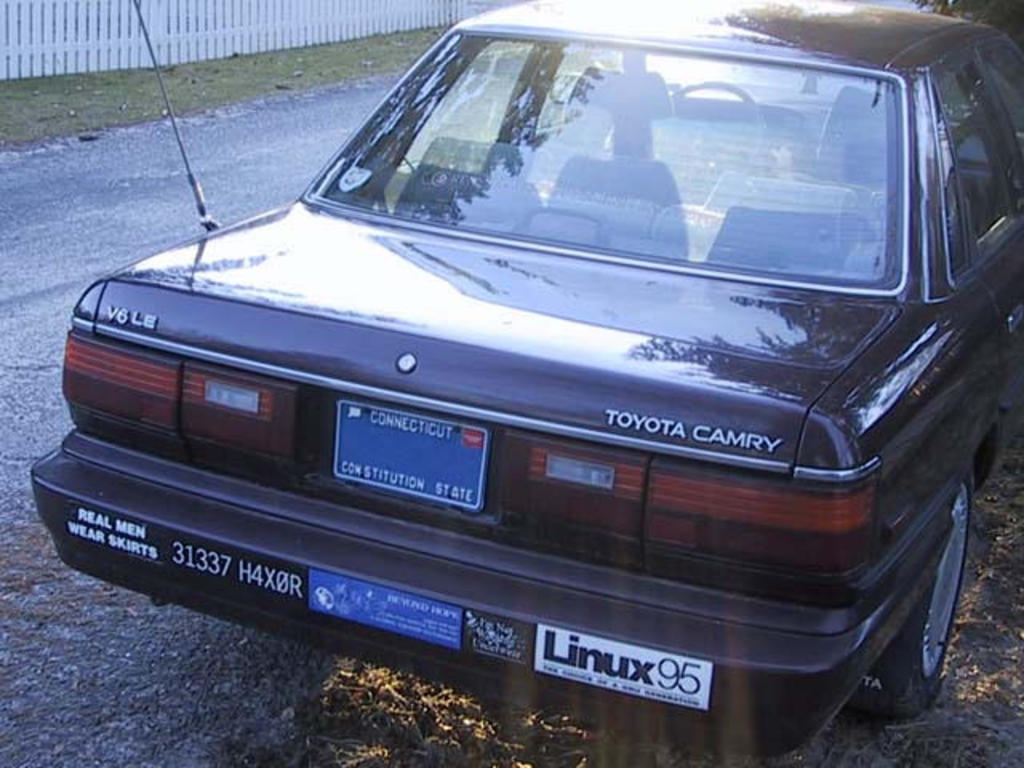Car: (28, 0, 1022, 759)
